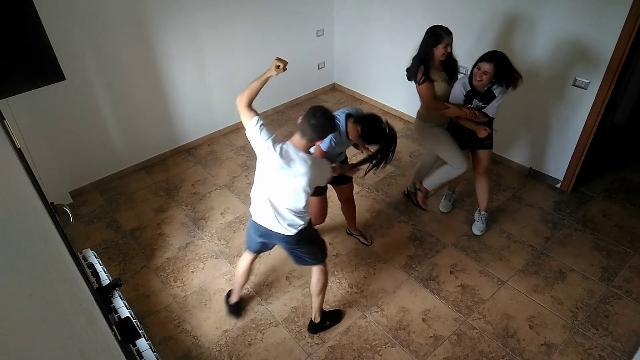violence: (222, 56, 398, 338), (404, 22, 524, 238)
